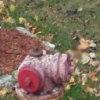Hydrant: (13, 37, 76, 100)
